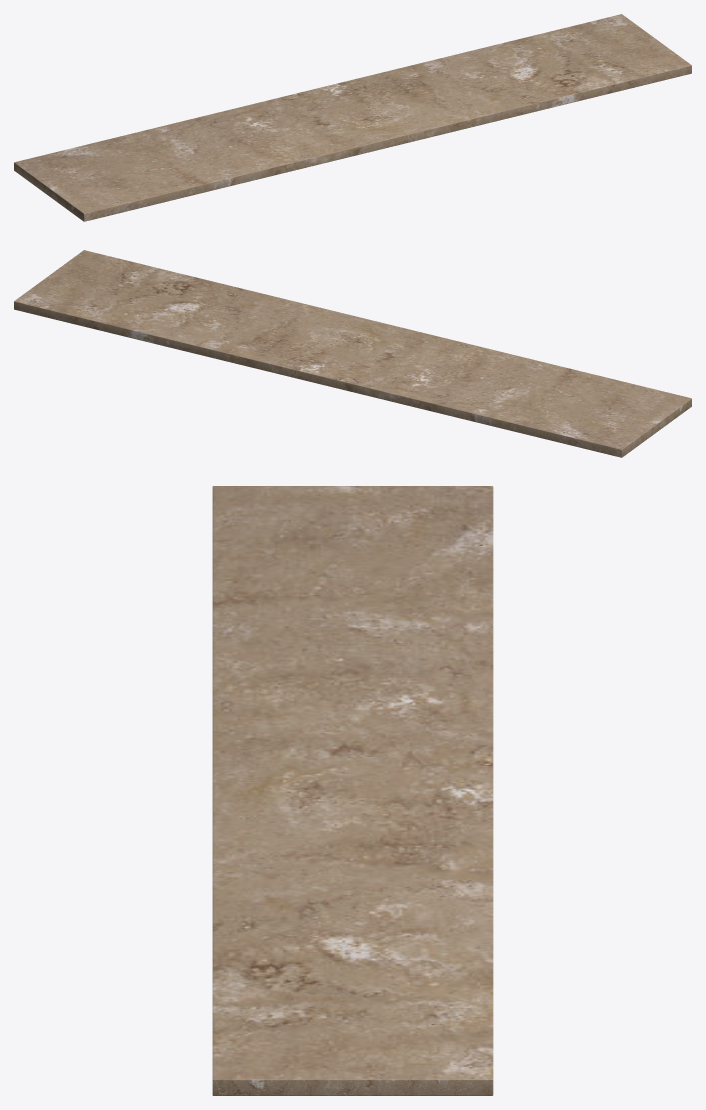
File: countertop-3m-by-0.6m.glb
3 views of the same model, one above another, from view 1: azimuth 30°, elevation 25°; view 2: azimuth 150°, elevation 25°; view 3: azimuth 270°, elevation 25° (orthographic). The views are drawn at different scales.
Parts seen in each view (by area): view 1: countertop; view 2: countertop; view 3: countertop.
Boxes of the visible parts, <box> form: countertop: <box>14,14,691,221</box>; countertop: <box>14,250,691,457</box>; countertop: <box>212,486,493,1095</box>.
Bounding box in the file's own units: 3 × 0.0399 × 0.6001.
Materials: 1 (1 with a texture image).
